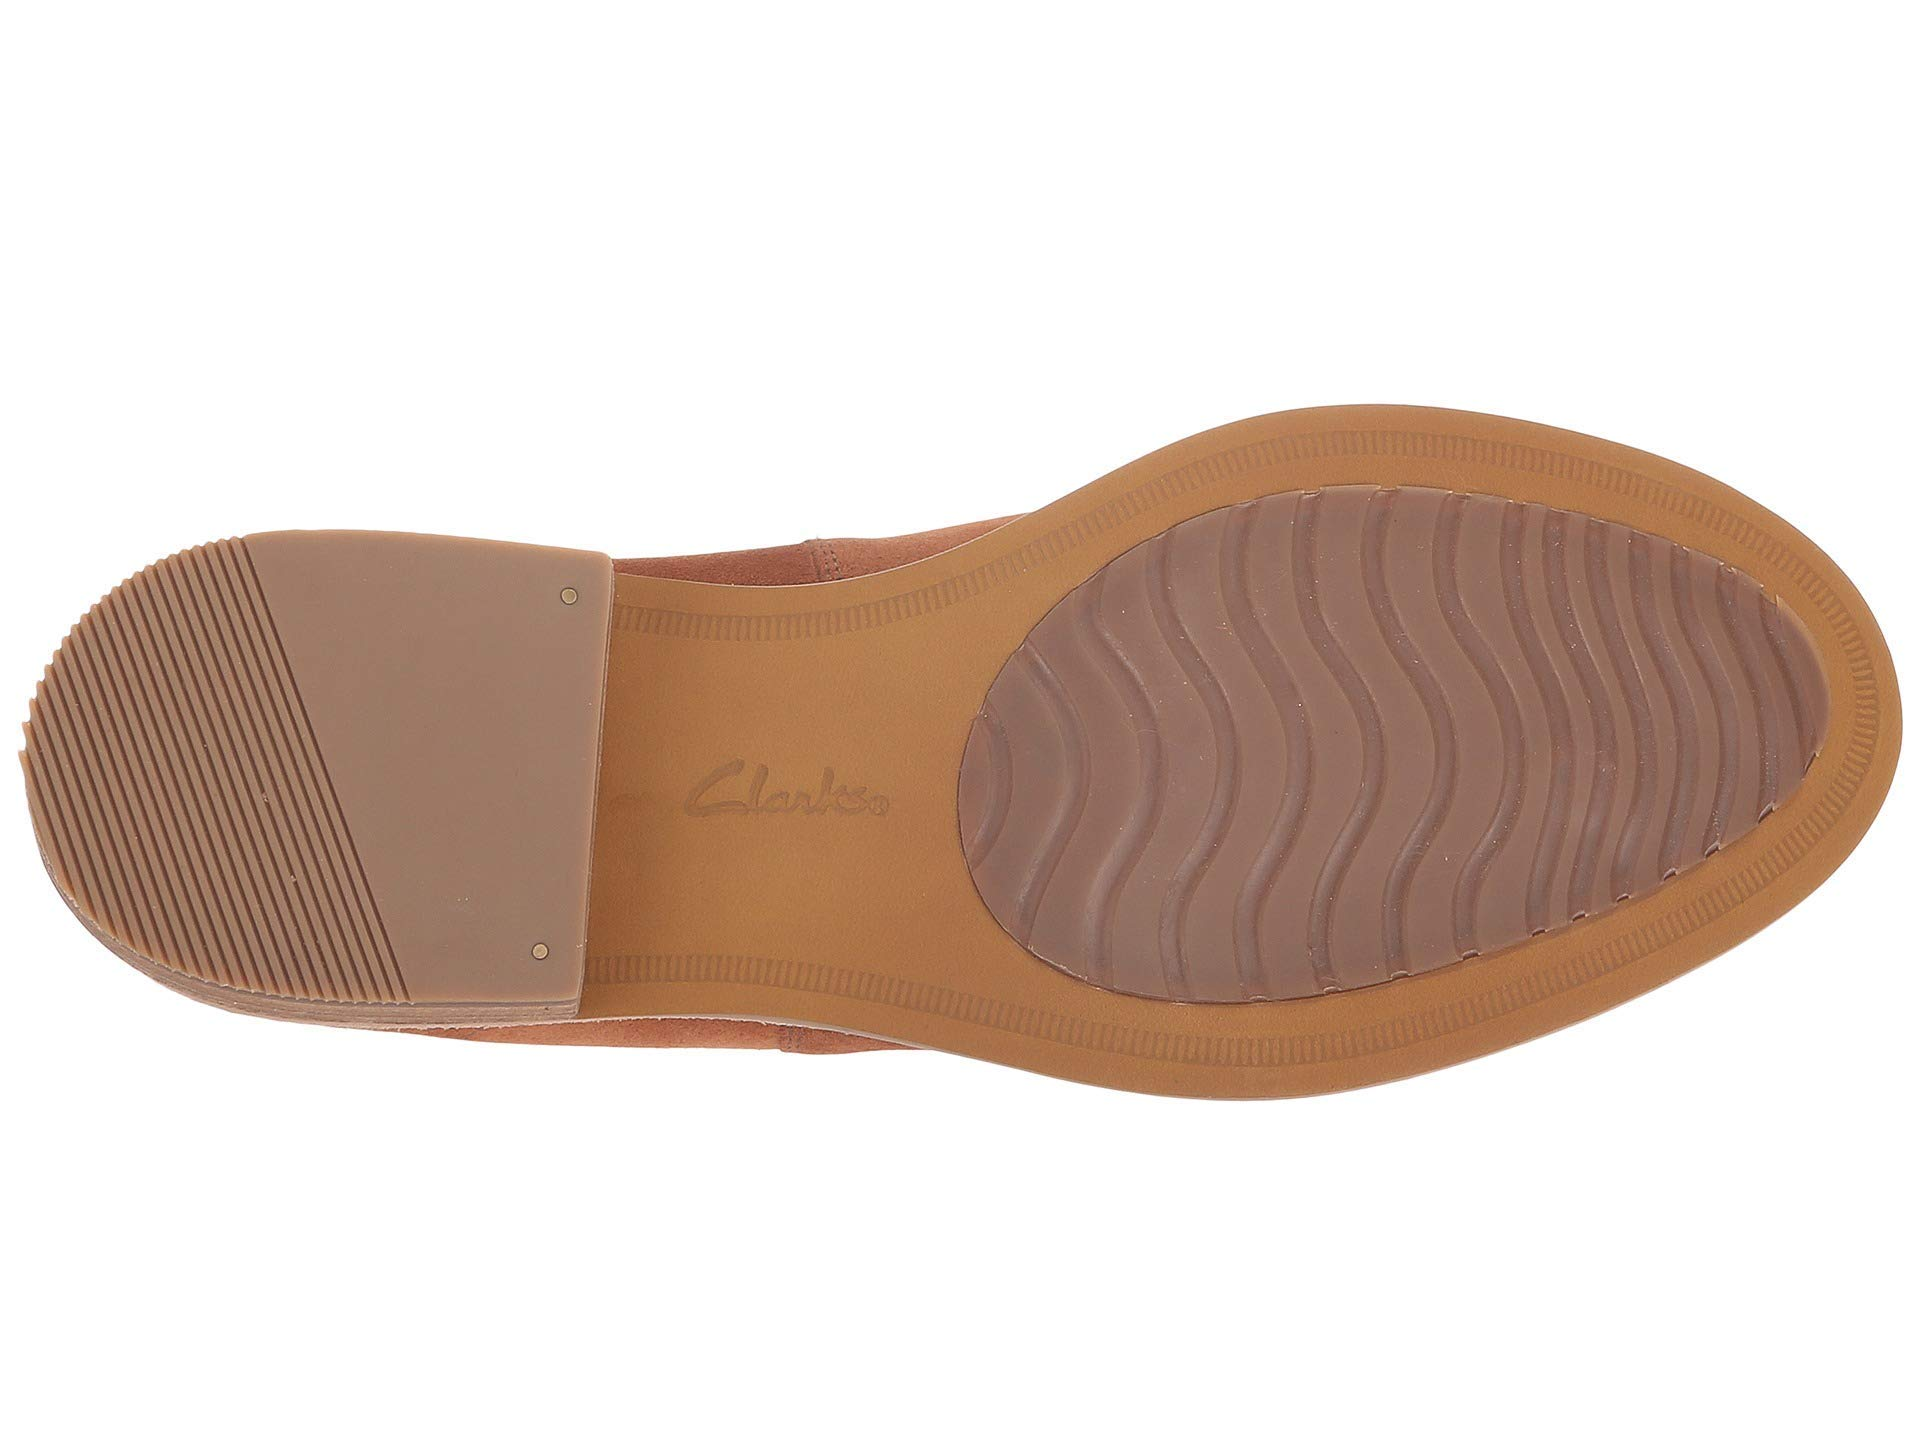chevron: (1149, 548, 1592, 961)
line: (118, 649, 361, 915)
